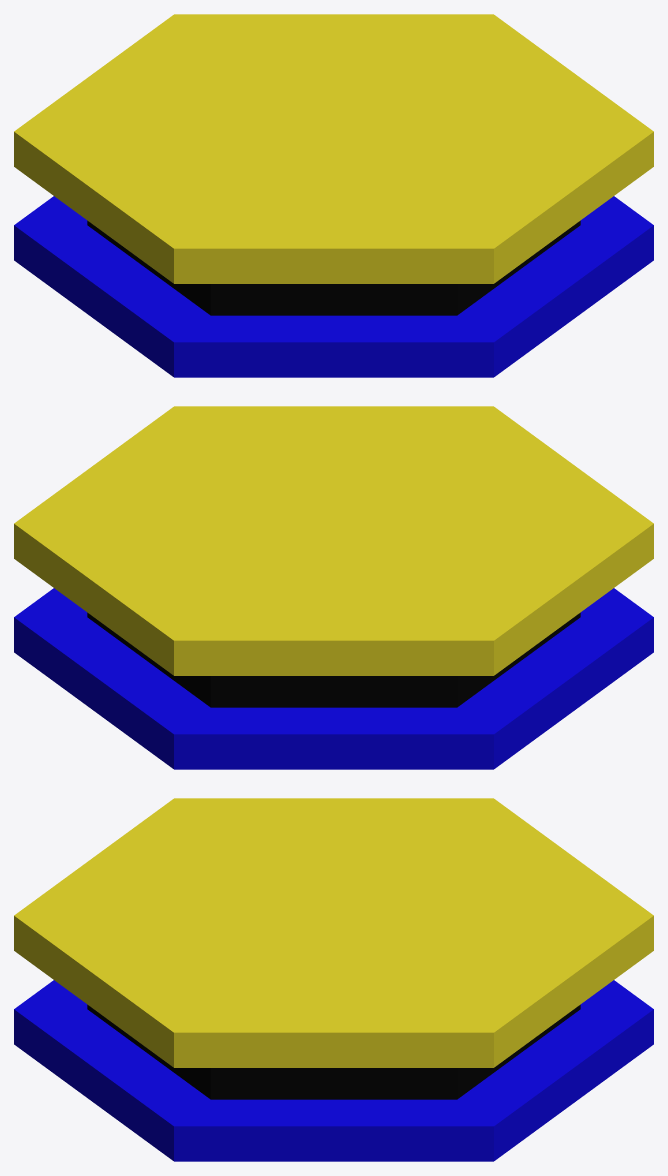
The model's file is game-piece.glb.
3 views of the same model, one above another, from view 1: azimuth 30°, elevation 25°; view 2: azimuth 150°, elevation 25°; view 3: azimuth 270°, elevation 25° (orthographic).
Visible parts, largest first — view 1: Circle.001, Circle, Circle.002; view 2: Circle.001, Circle, Circle.002; view 3: Circle.001, Circle, Circle.002.
Part boxes in pixels (bbox=[...]): Circle.001: bbox=[14, 14, 653, 283]; Circle: bbox=[14, 196, 653, 377]; Circle.002: bbox=[87, 220, 580, 315]; Circle.001: bbox=[14, 406, 653, 675]; Circle: bbox=[14, 588, 653, 769]; Circle.002: bbox=[87, 612, 580, 707]; Circle.001: bbox=[14, 798, 653, 1067]; Circle: bbox=[14, 980, 653, 1161]; Circle.002: bbox=[87, 1004, 580, 1099].
Size of the model in its own units: 1.73 by 0.4441 by 2.
